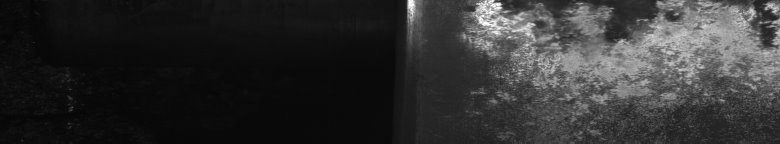kb: (461, 4, 776, 136)
